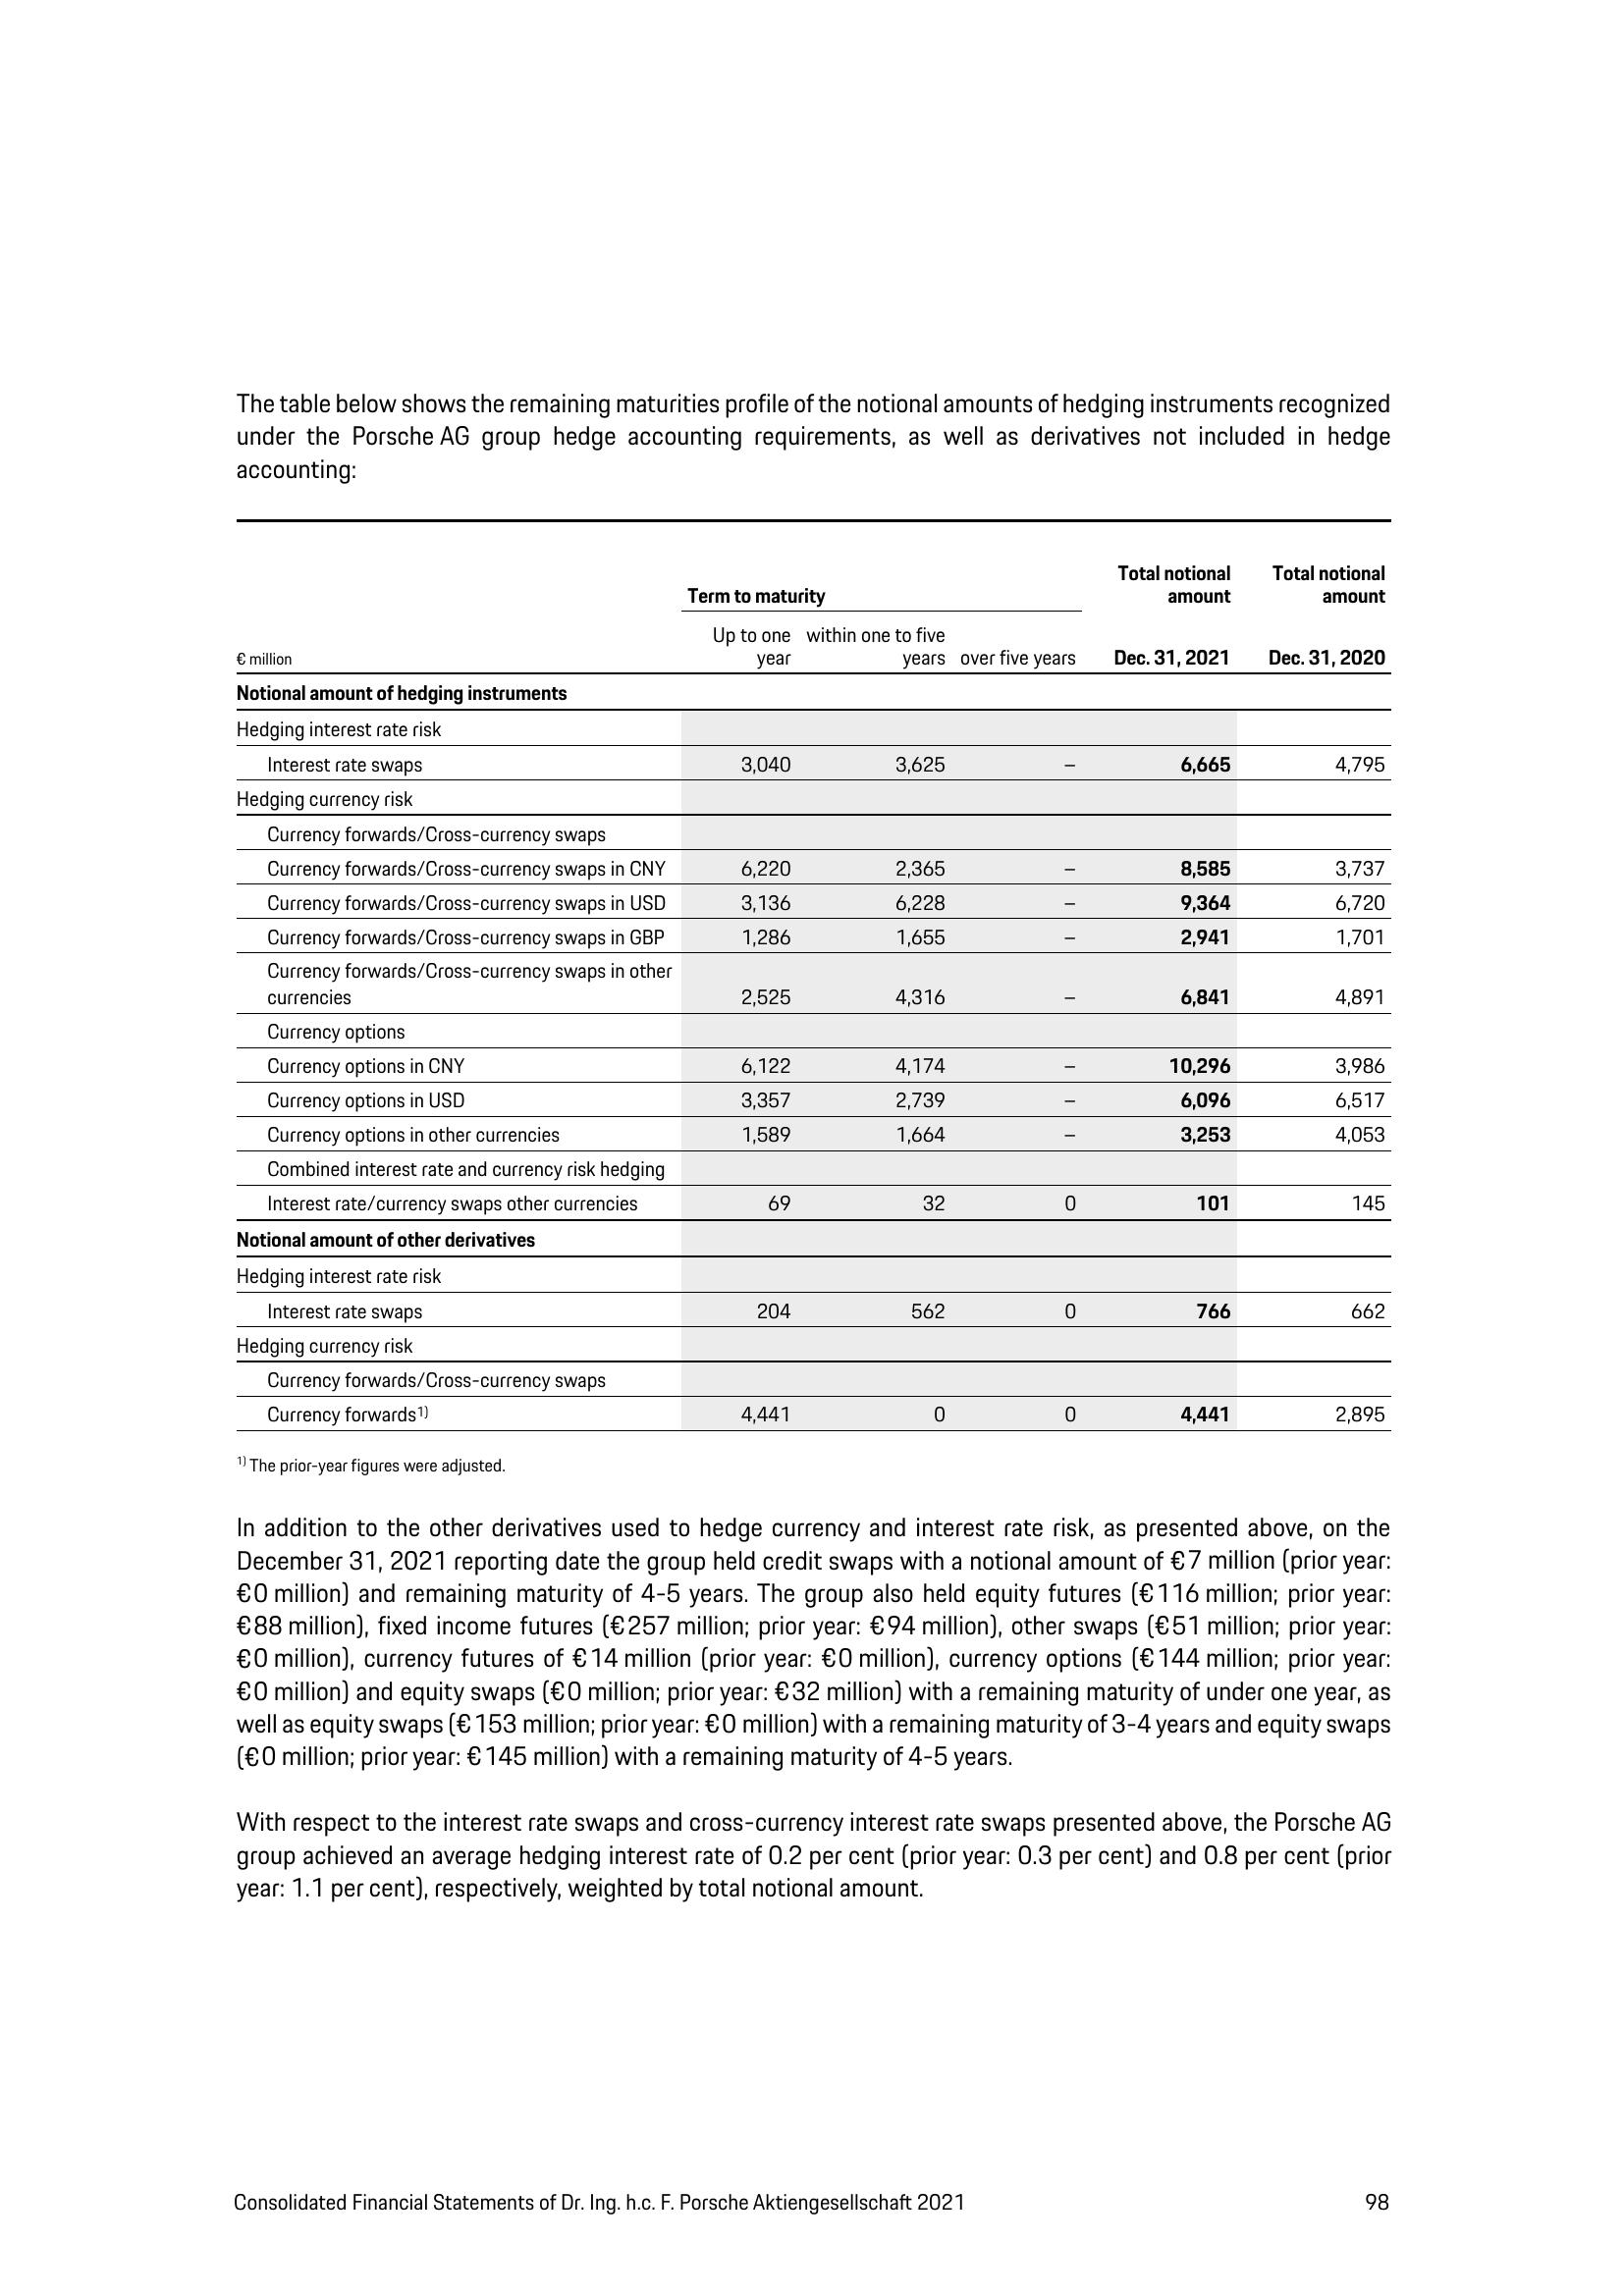Footer: (0, 2134, 1624, 2296)
Header: (0, 0, 1624, 202)
Table: (216, 520, 1425, 1446)
